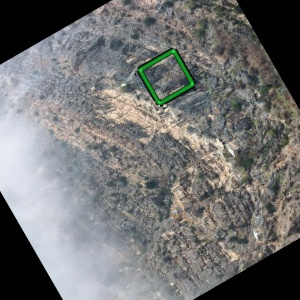square: (135, 46, 196, 107)
